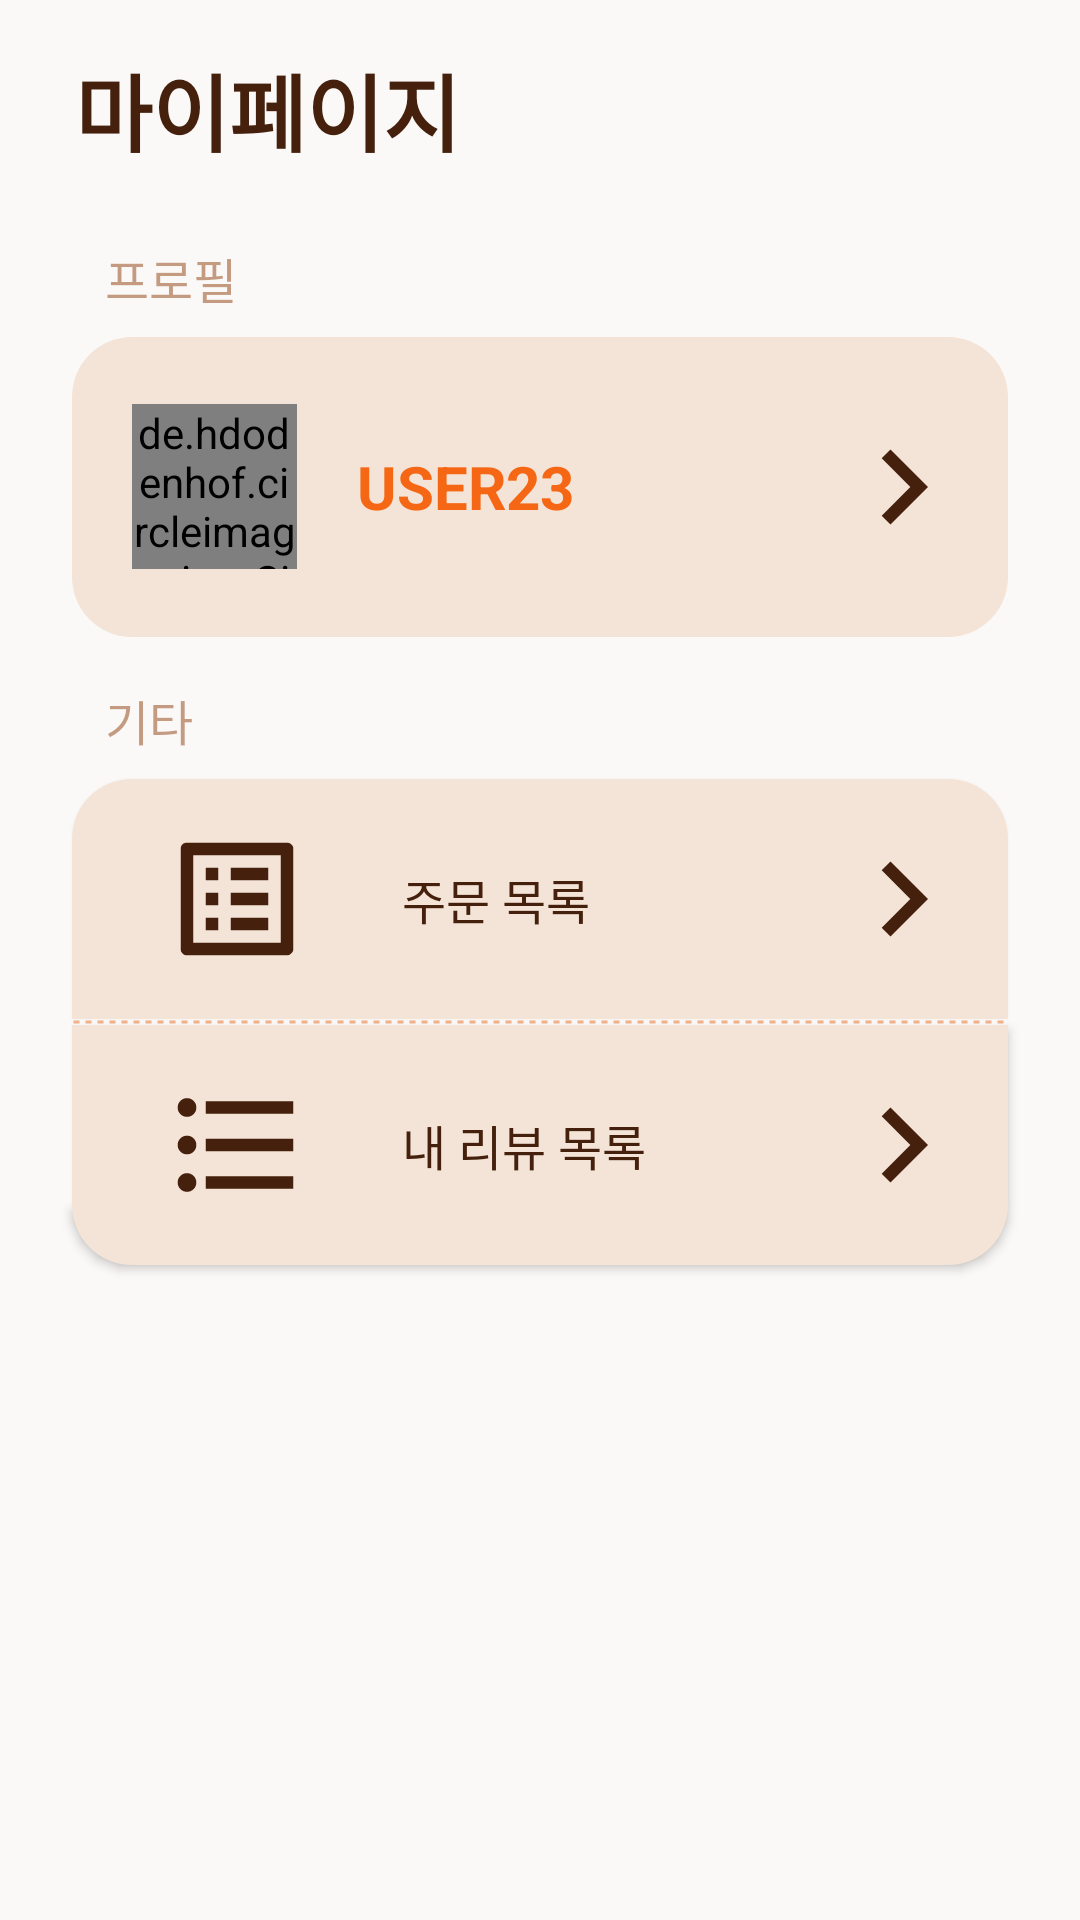

Icons on this 1080w x 1920h Android screen, each with the point to tap as point (x, y):
keyboard arrow right: point (905, 487)
